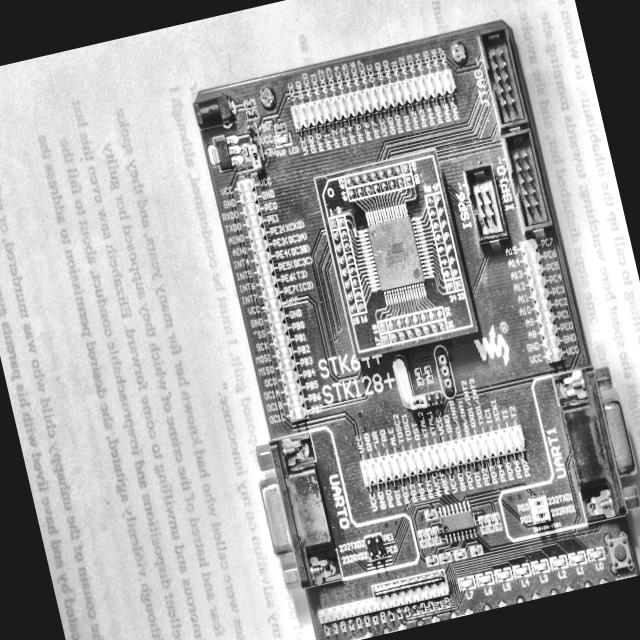PCB: (168, 9, 640, 640)
